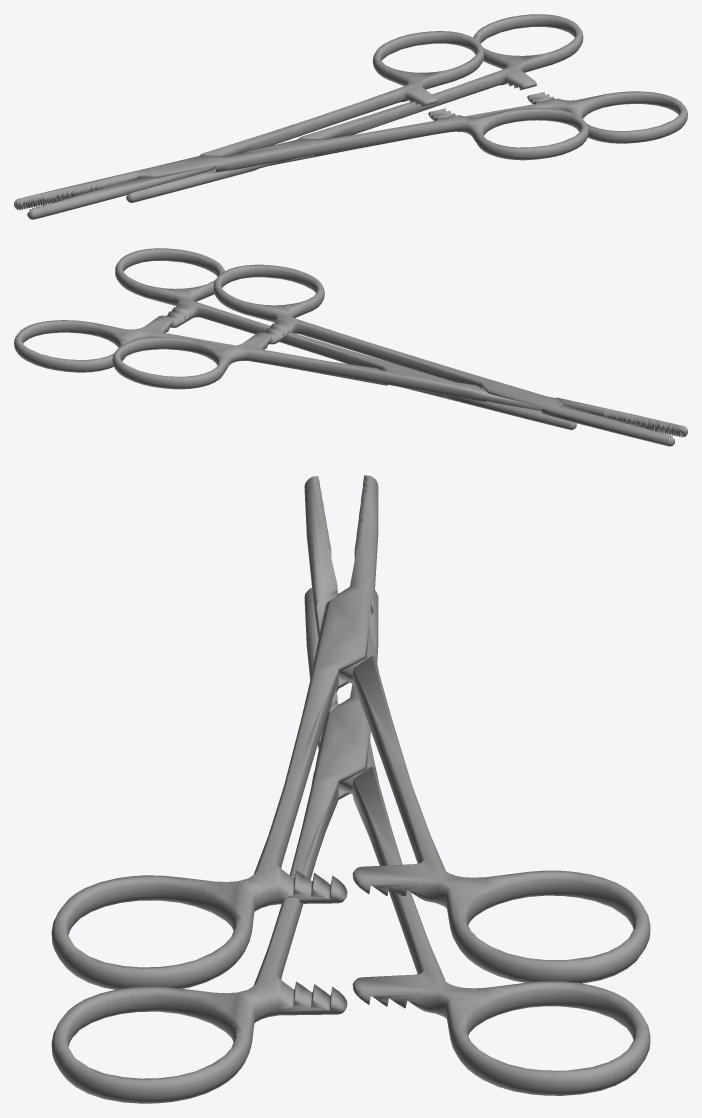
The model's file is instrument_artery_forceps_b01.glb.
3 renders of one model, top to bottom at view 1: azimuth 30°, elevation 25°; view 2: azimuth 150°, elevation 25°; view 3: azimuth 270°, elevation 25°, orthographic. The views are drawn at different scales.
Visible parts, largest first — view 1: handleRight_01_mesh_00 (×2), handleLeft_01_mesh_00 (×2); view 2: handleLeft_01_mesh_00 (×2), handleRight_01_mesh_00 (×2); view 3: handleLeft_01_mesh_00 (×2), handleRight_01_mesh_00 (×2).
Boxes of the visible parts, x1,y1,x2,y2 form: handleRight_01_mesh_00 (×2): [27, 14, 583, 219]; handleLeft_01_mesh_00 (×2): [14, 91, 687, 210]; handleLeft_01_mesh_00 (×2): [115, 248, 674, 446]; handleRight_01_mesh_00 (×2): [14, 315, 687, 437]; handleLeft_01_mesh_00 (×2): [51, 475, 378, 1103]; handleRight_01_mesh_00 (×2): [304, 476, 650, 1095].
Size of the model in its own units: 0.2215 by 0.00738 by 0.0943.
Materials: 2 (2 with a texture image).
